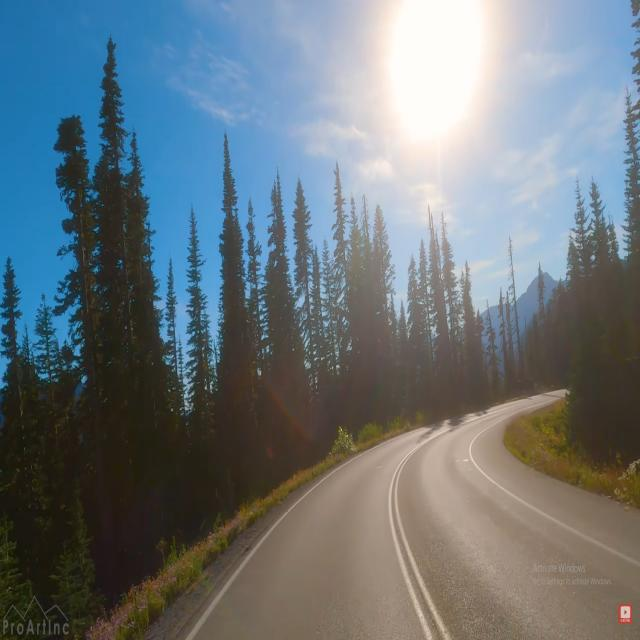sun: (364, 1, 512, 161)
